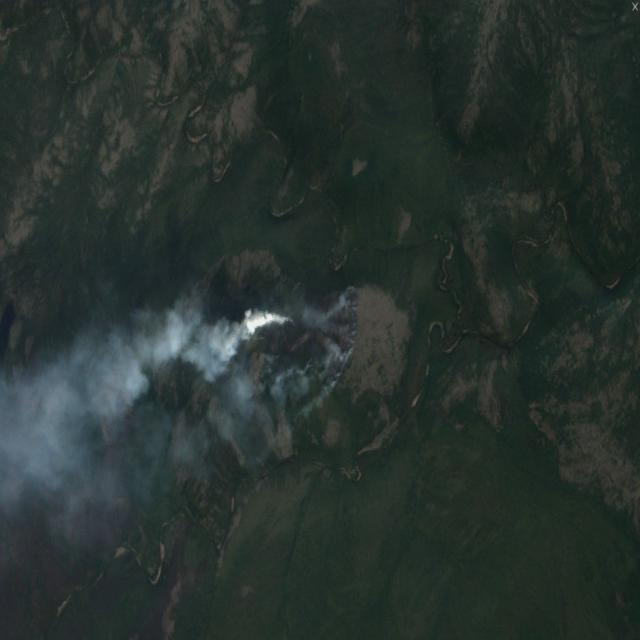fire: (238, 282, 368, 421)
